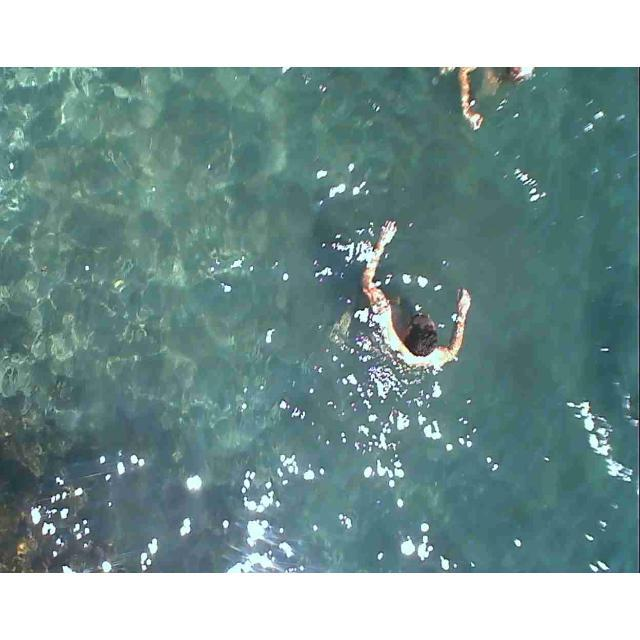human: (354, 224, 475, 394), (433, 67, 562, 154)
